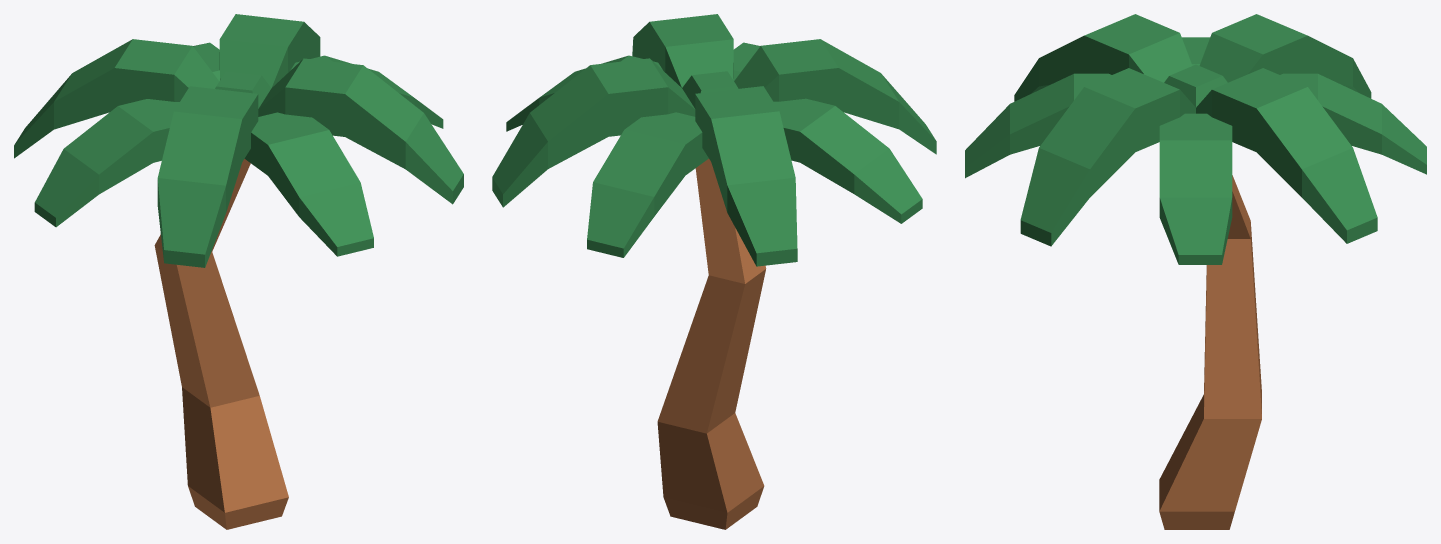
Rendered from palm_detailed_short.glb.
3 renders of one model, left to right at view 1: azimuth 30°, elevation 25°; view 2: azimuth 150°, elevation 25°; view 3: azimuth 270°, elevation 25°, orthographic. The views are drawn at different scales.
Visible parts, largest first — view 1: Group 20, Group 18; view 2: Group 20, Group 18; view 3: Group 20, Group 18.
Part boxes in pixels (left/top/right/bottom): Group 20: left=14, top=14, right=463, bottom=267; Group 18: left=154, top=159, right=288, bottom=529; Group 20: left=492, top=14, right=936, bottom=266; Group 18: left=657, top=158, right=766, bottom=529; Group 20: left=965, top=14, right=1426, bottom=264; Group 18: left=1159, top=175, right=1261, bottom=529.
Bounding box in the file's own units: 15.44 × 16.79 × 15.44.
